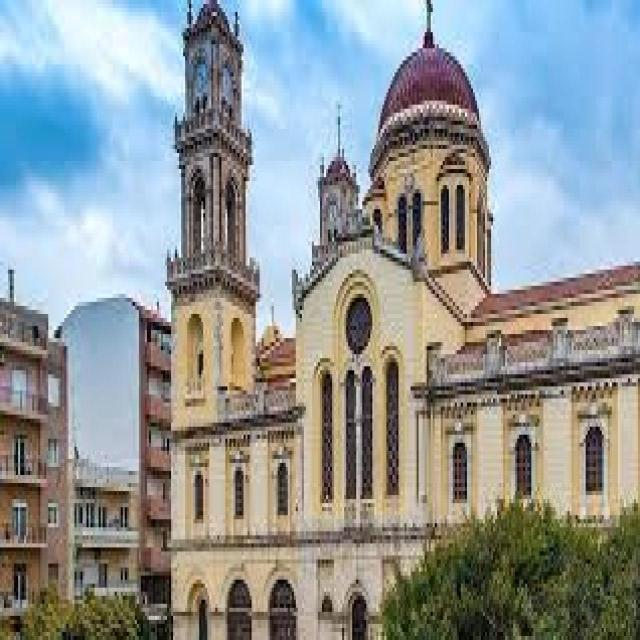Agios Minas: (169, 1, 640, 640)
